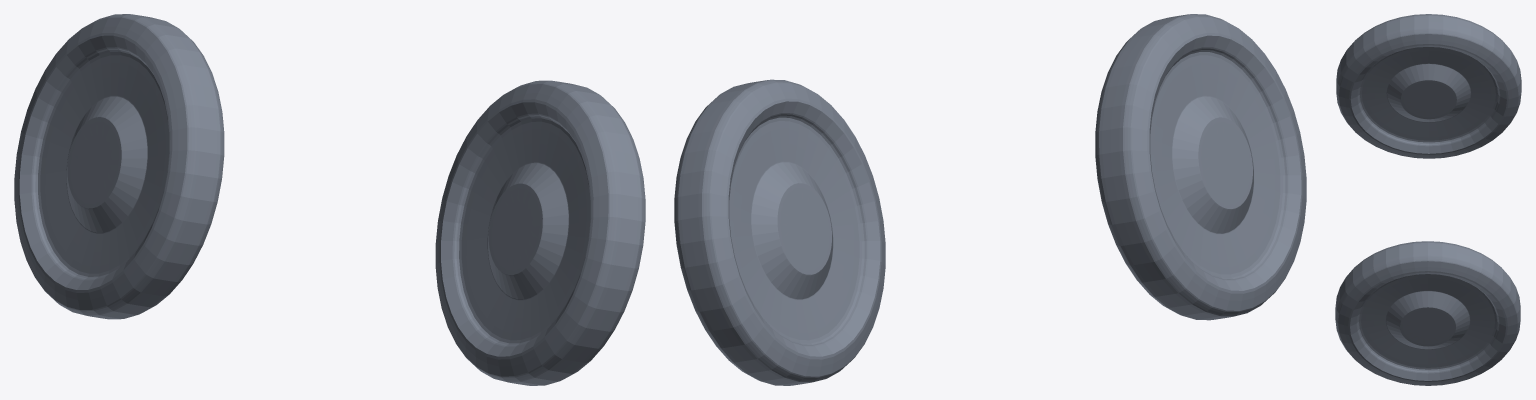
The model's file is weight_1_1.obj.
The picture shows the model from 3 angles, left to right: view 1: azimuth 30°, elevation 25°; view 2: azimuth 150°, elevation 25°; view 3: azimuth 270°, elevation 25°; orthographic projection. The views are drawn at different scales.
Size of the model in its own units: 0.8643 by 0.6551 by 0.4173.
